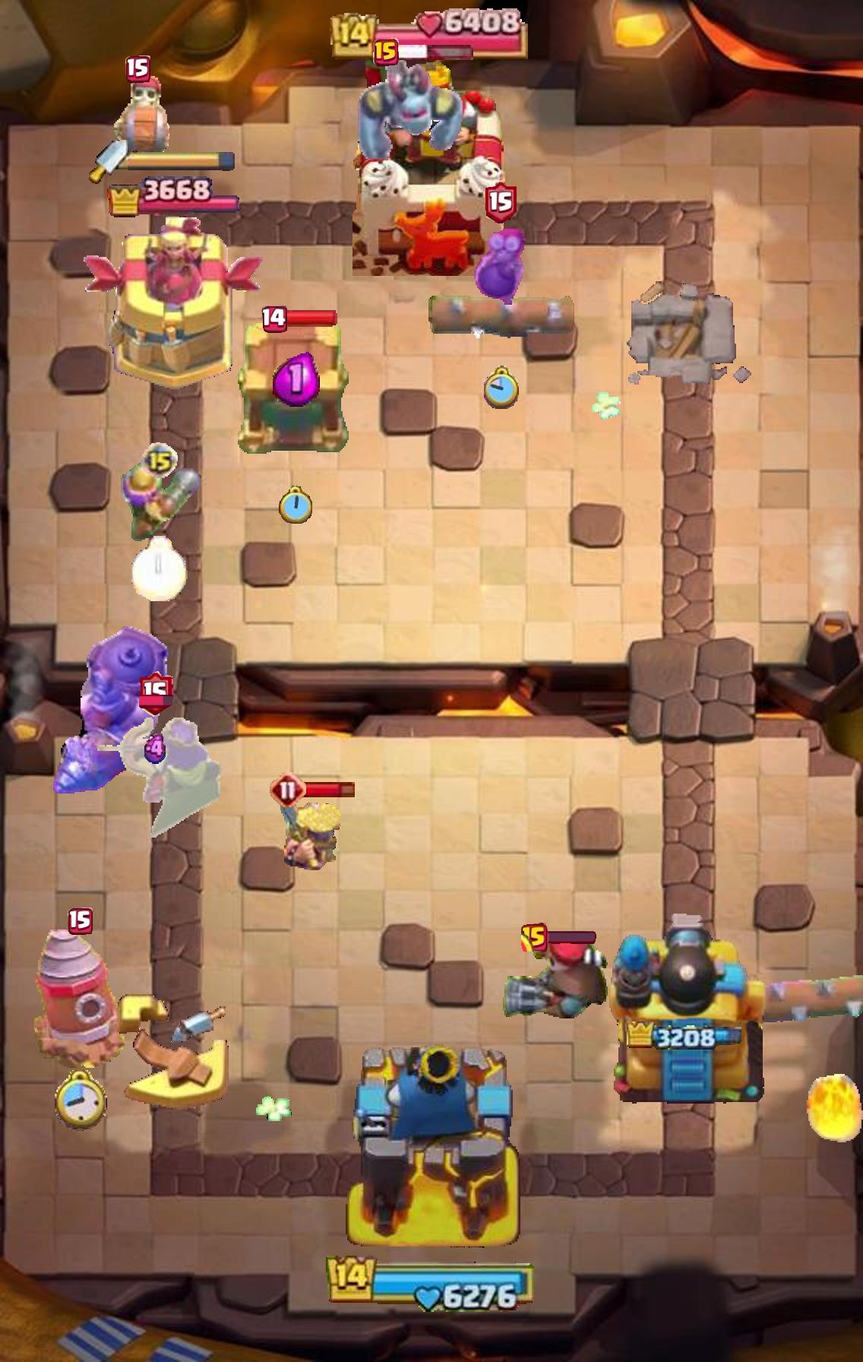bar: (395, 44, 474, 61), (302, 780, 356, 800), (283, 309, 338, 328), (546, 931, 597, 944)
bar-level: (139, 671, 174, 717), (485, 180, 517, 224), (270, 771, 306, 808), (521, 923, 548, 953), (373, 38, 399, 67), (261, 305, 287, 333), (126, 55, 151, 83), (68, 907, 93, 935)
